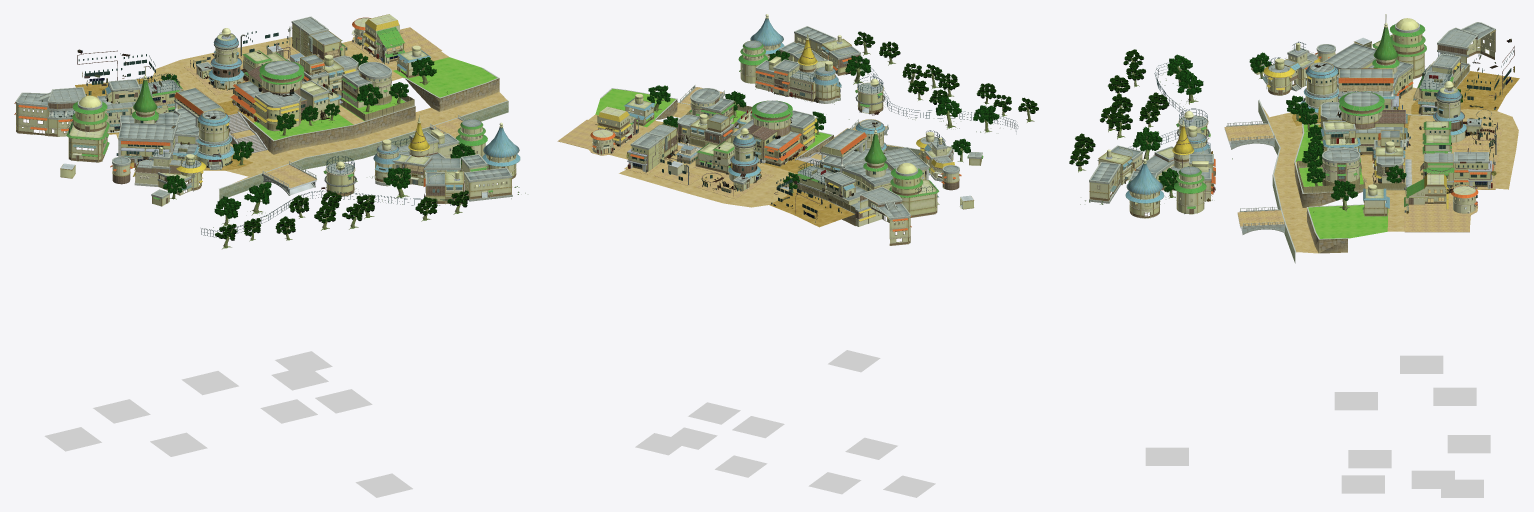
The picture shows the model from 3 angles, left to right: view 1: azimuth 30°, elevation 25°; view 2: azimuth 150°, elevation 25°; view 3: azimuth 270°, elevation 25°; orthographic projection. The views are drawn at different scales.
Visible parts, largest first — view 1: sa00kkobj09_001, sa00aaflo00_001, sa00aaobj01_001, Quad_dd, ha005_14_001, sa00aaobj11_001, sa00kkobj05_001, sa00aaart00_001, sa00mmobj04_001, sa00kkWindows, sa00aaobj19_001, ki004_14_001 (+2 smaller); view 2: sa00kkobj09_001, sa00aaobj01_001, sa00aaflo00_001, Quad_dd, ha005_14_001, sa00kkobj05_001, sa00kkflo00_001, sa00aaobj11_001, sa00aaart00_001, sa00mmobj04_001, sa00kkWindows, sa00aaobj19_001 (+2 smaller); view 3: sa00kkobj09_001, sa00aaflo00_001, sa00aaobj01_001, Quad_dd, ha005_14_001, sa00aaobj11_001, sa00kkobj05_001, sa00kkflo00_001, sa00mmobj04_001, sa00aaart00_001, sa00kkWindows, sa00aaobj08_001 (+3 smaller).
Boxes of the visible parts, x1,y1,x2,y2 form: sa00kkobj09_001: (14, 14, 516, 206); sa00aaflo00_001: (116, 27, 508, 200); sa00aaobj01_001: (15, 18, 516, 206); Quad_dd: (44, 351, 412, 497); ha005_14_001: (215, 190, 469, 240); sa00aaobj11_001: (72, 17, 520, 173); sa00kkobj05_001: (75, 24, 344, 162); sa00aaart00_001: (41, 19, 459, 197); sa00mmobj04_001: (133, 80, 519, 157); sa00kkWindows: (78, 31, 340, 164); sa00aaobj19_001: (49, 73, 453, 237); ki004_14_001: (169, 58, 467, 249); sa00kkobj09_001: (592, 26, 983, 245); sa00aaobj01_001: (592, 14, 982, 243); sa00aaflo00_001: (557, 87, 920, 225); Quad_dd: (635, 350, 935, 497); ha005_14_001: (854, 31, 1038, 113); sa00kkobj05_001: (628, 119, 926, 190); sa00kkflo00_001: (759, 150, 854, 227); sa00aaobj11_001: (590, 43, 943, 179); sa00aaart00_001: (595, 55, 897, 222); sa00mmobj04_001: (750, 18, 886, 163); sa00kkWindows: (632, 121, 880, 218); sa00aaobj19_001: (783, 62, 1018, 193); sa00kkobj09_001: (1089, 22, 1495, 234); sa00aaflo00_001: (1224, 71, 1518, 263); sa00aaobj01_001: (1090, 14, 1514, 218); Quad_dd: (1145, 355, 1490, 497); ha005_14_001: (1069, 49, 1169, 166); sa00aaobj11_001: (1125, 24, 1478, 203); sa00kkobj05_001: (1321, 18, 1490, 187); sa00kkflo00_001: (1292, 71, 1519, 155); sa00mmobj04_001: (1126, 27, 1398, 194); sa00aaart00_001: (1122, 38, 1514, 213); sa00kkWindows: (1308, 46, 1513, 185); sa00aaobj08_001: (1106, 43, 1453, 196).
Size of the model in its own units: 192 by 163 by 177.
35 materials, 35 textured.
